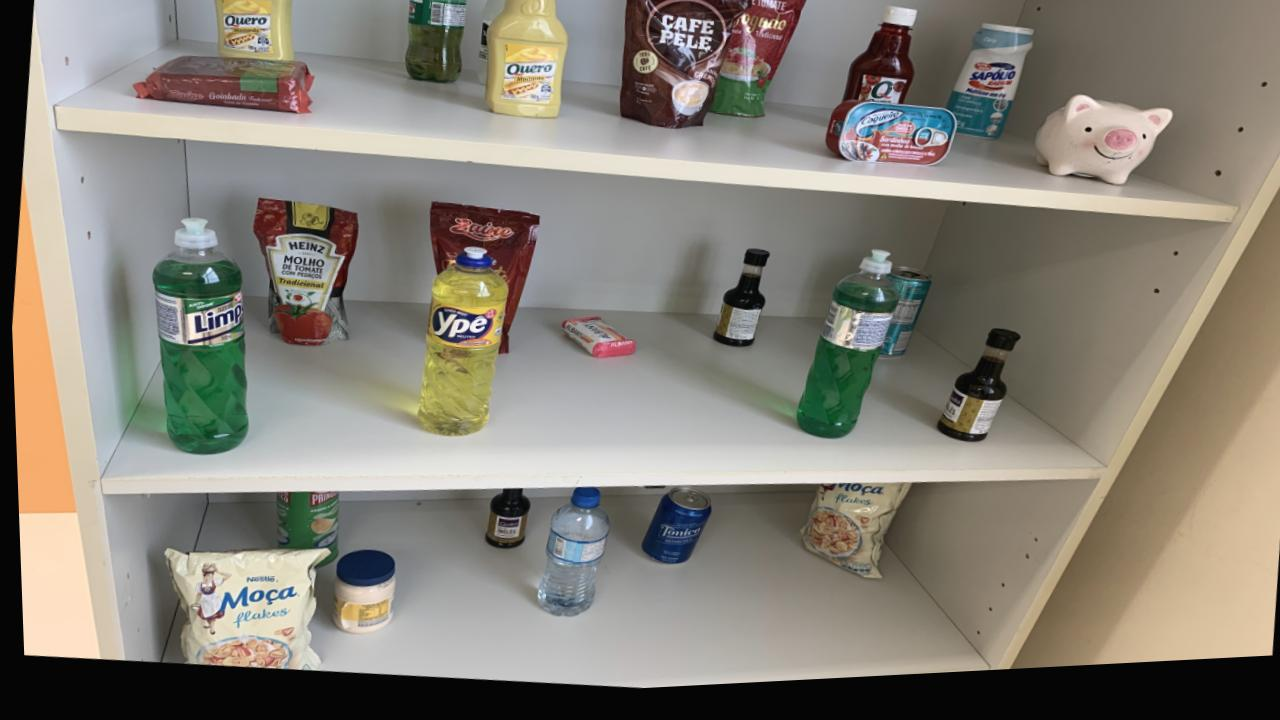Cleaner-Cleanup_Items: (945, 34, 1032, 149)
Coffee-Pantry_Items: (618, 0, 751, 136)
Detergent-Cleanup_Items: (151, 221, 245, 456), (794, 258, 896, 447), (413, 253, 506, 440)
English_Sauce-Pantry_Items: (933, 339, 1018, 452), (710, 257, 766, 355), (482, 493, 527, 554)
Flakes-Snacks: (160, 551, 326, 672), (797, 491, 906, 587)
Guarana-Drinks: (405, 0, 468, 88)
Guava-Snacks: (135, 57, 311, 116)
Ketchup-Pantry_Items: (843, 16, 917, 113)
Mayonnaise-Pantry_Items: (328, 552, 391, 637)
Mustard-Pantry_Items: (485, 0, 567, 124), (212, 0, 294, 64)
Pig_Safe-Miscellaneous: (1033, 106, 1170, 197)
Pringles-Snacks: (271, 494, 335, 569)
Soap-Cleanup_Items: (558, 322, 632, 364)
Tea-Drinks: (879, 276, 930, 366)
Tomato_Sauce-Pantry_Items: (427, 205, 539, 358), (252, 200, 357, 348), (709, 0, 809, 126)
Tonic-Drinks: (636, 493, 707, 571)
Tuna_Can-Pantry_Items: (824, 109, 956, 175)
Water_Bottle-Drinks: (532, 493, 606, 622)
